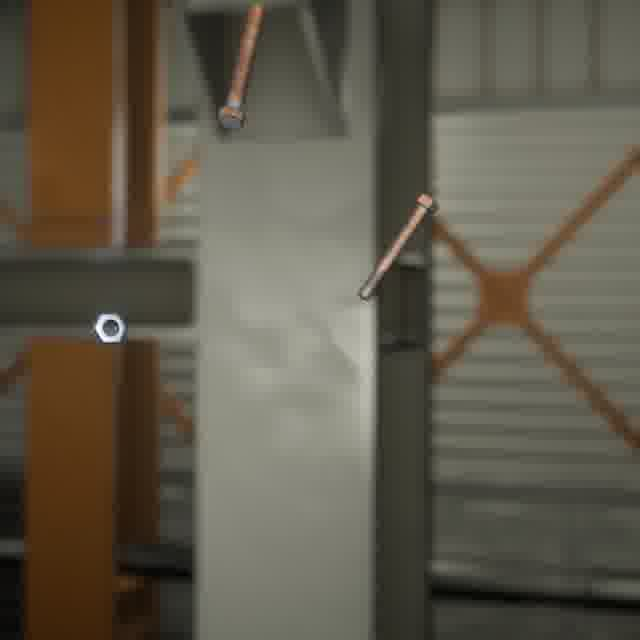bolt: (353, 188, 443, 304), (214, 0, 269, 133)
nut: (87, 309, 131, 348)
